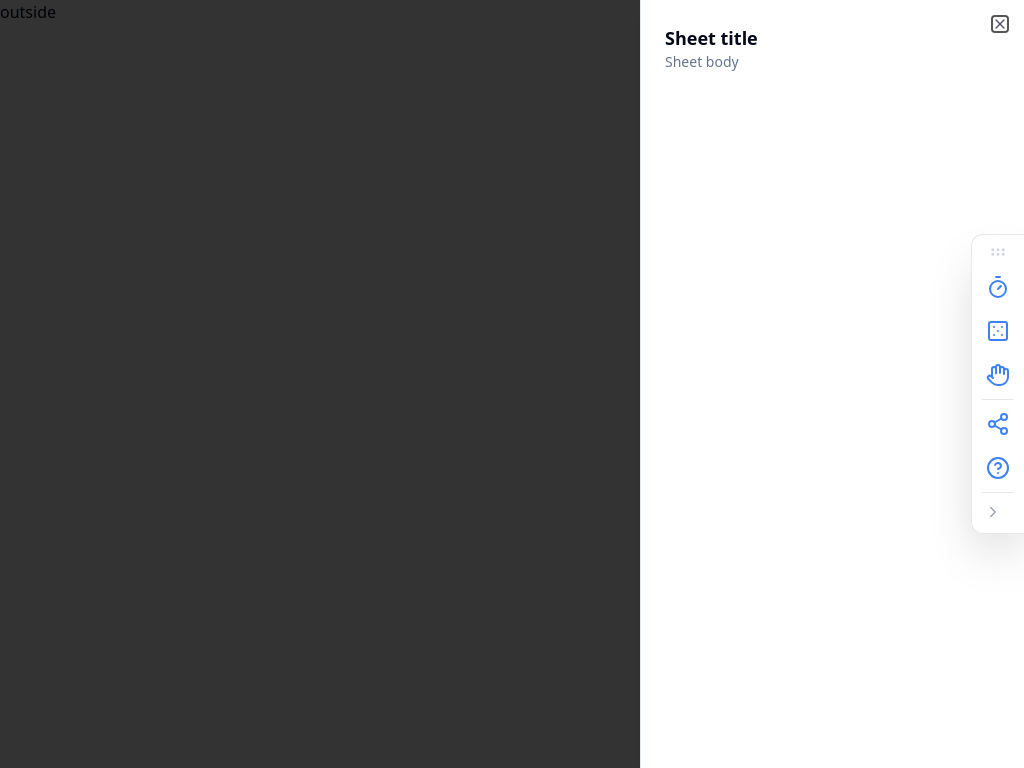
Test: DigitalTeachingToolbar › Sheet 開著時操作工具列 › 按收起鈕：工具列收起，sheet 不關
Click the button named "Collapse toolbar" at {"x": 998, "y": 512}, box [978,497,1018,527]
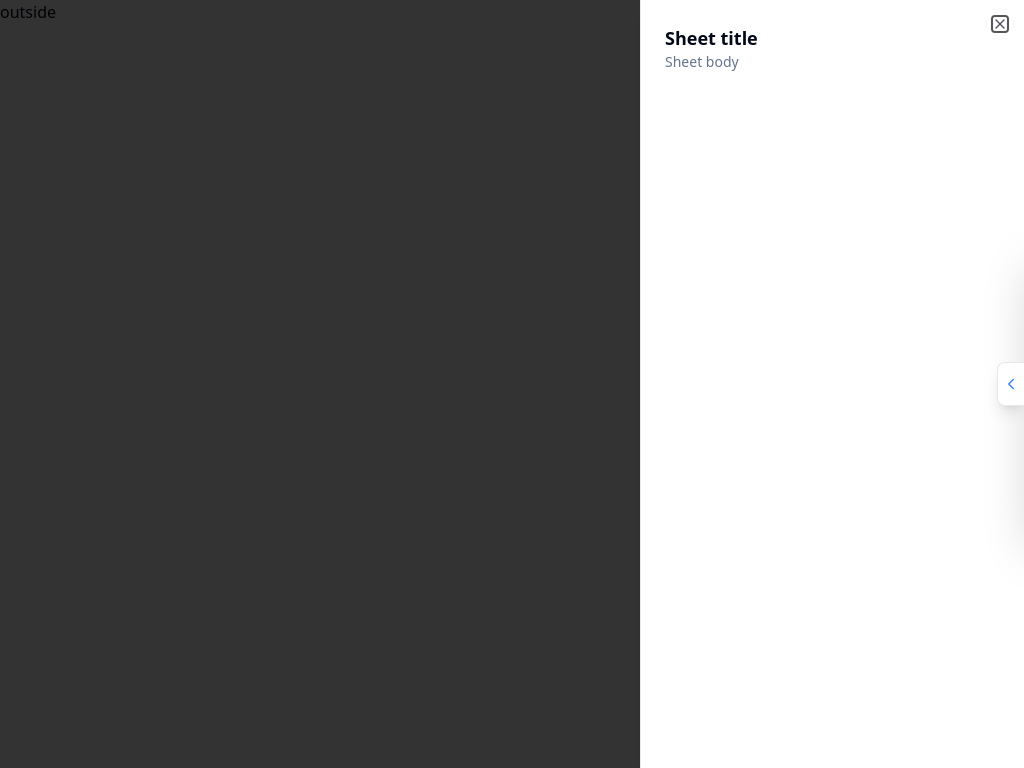
Check: the text "Sheet body" is shown, box [665,52,739,71]
Check: the button named "Expand toolbar" is shown, box [997,362,1023,406]
